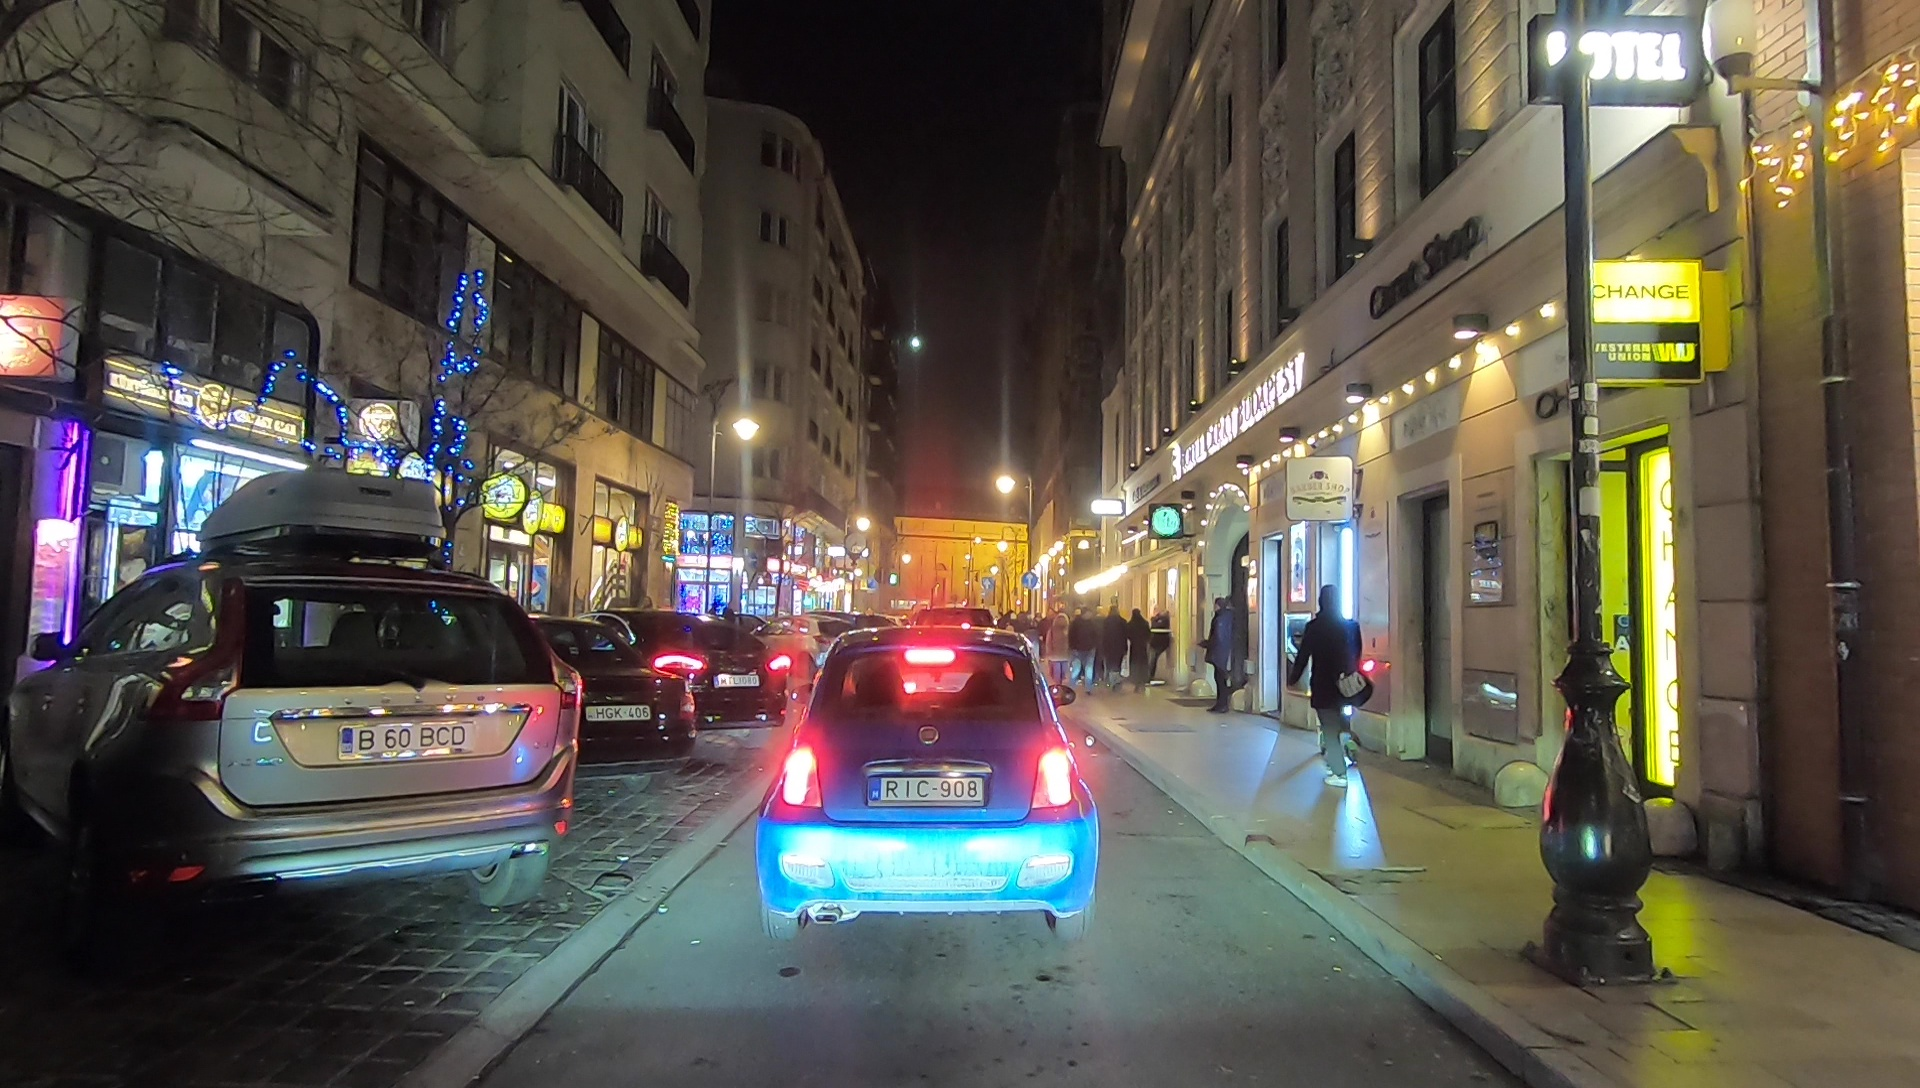person: (1293, 587, 1364, 792), (1206, 594, 1237, 714), (1071, 601, 1098, 696), (1044, 615, 1073, 688), (1103, 605, 1126, 690), (1127, 610, 1150, 690), (1149, 610, 1171, 687), (1036, 613, 1055, 682)
